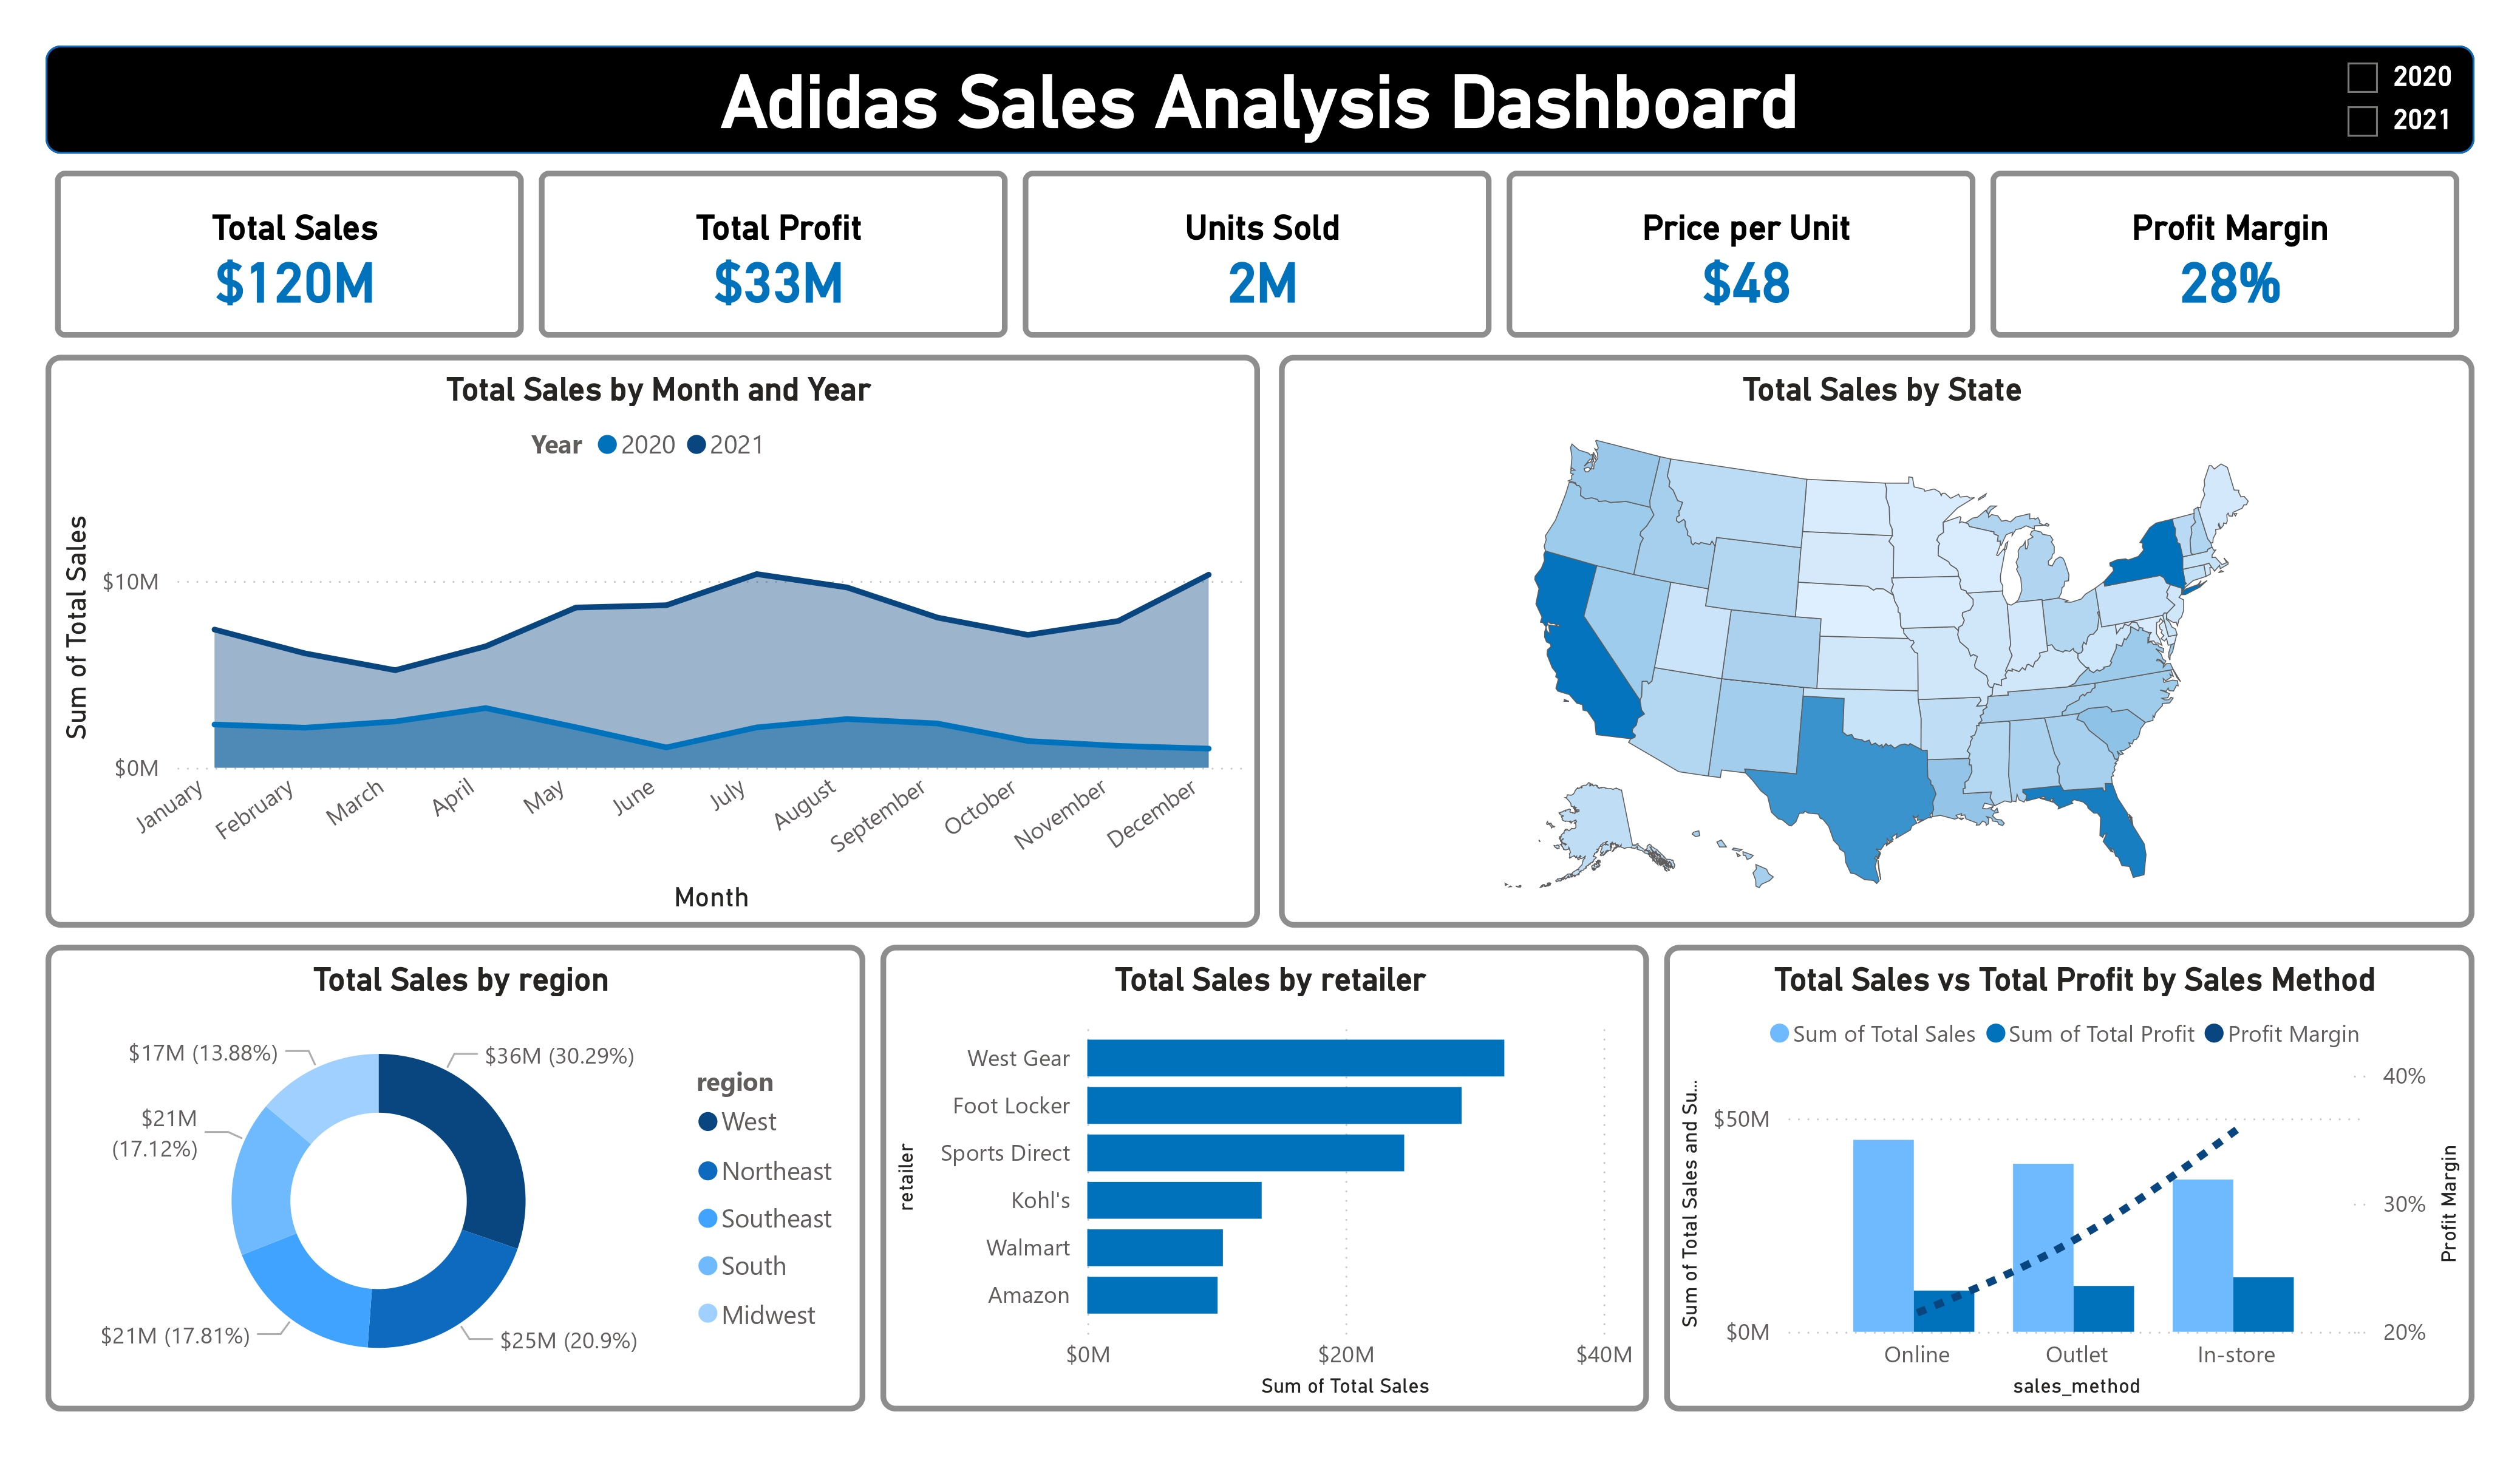

The dashboard page shown, as its layout file describes it:
{"tool":"powerbi","page":{"name":"Page 1","canvas":[1280,720],"ordinal":0},"visuals":[{"type":"shapeMap","title":"Total Sales by State","fields":{"Category":["Adidas US Sales.state"],"Value":["Sum(Adidas US Sales.total_sales)"]},"box":[650.1,163,629.6,301.8],"z":0},{"type":"textbox","box":[6.3,6.3,1273.4,39.4],"z":1000},{"type":"cardVisual","fields":{"Data":["Sum(Adidas US Sales.Total Sales)","Sum(Adidas US Sales.Operating Profit)","Sum(Adidas US Sales.Units Sold)","Adidas US Sales.Price per Unit","Adidas US Sales.Profit Margin"]},"box":[0,57,1279,106],"z":2000},{"type":"areaChart","title":"Total Sales by Month and Year","fields":{"Category":["Adidas US Sales.invoice_date.Variation.Date Hierarchy.Month"],"Y":["Sum(Adidas US Sales.Total Sales)"],"Series":["Adidas US Sales.invoice_date.Variation.Date Hierarchy.Year"]},"box":[0,163,640.3,301.8],"z":3000},{"type":"donutChart","title":"Total Sales by region","fields":{"Category":["Adidas US Sales.region"],"Y":["Sum(Adidas US Sales.Total Sales)"]},"box":[0,473.7,431.6,246.3],"z":4000},{"type":"barChart","title":"Total Sales by retailer","fields":{"Category":["Adidas US Sales.retailer"],"Y":["Sum(Adidas US Sales.Total Sales)"]},"box":[439.7,473.7,405.7,246.3],"z":5000},{"type":"lineClusteredColumnComboChart","title":"Total Sales vs  Total Profit by Sales Method","fields":{"Category":["Adidas US Sales.sales_method"],"Y":["Sum(Adidas US Sales.Total Sales)","Sum(Adidas US Sales.Total Profit)"],"Y2":["Adidas US Sales.Profit Margin"]},"box":[853.4,473.7,426.3,246.3],"z":6000},{"type":"shape","box":[0,0,1279.7,57.3],"z":7000},{"type":"slicer","fields":{"Values":["Adidas US Sales.invoice_date.Variation.Date Hierarchy.Year"]},"box":[1200,0,80,63],"z":7001}]}

Visuals, with their boxes in screenshot pixels (x1, y1, x2, y2):
"Total Sales by State" shapeMap: (1279,355,2474,928)
textbox: (58,58,2474,132)
cardVisual - Sum(Adidas US Sales.Total Sales) x Sum(Adidas US Sales.Operating Profit): (46,154,2473,355)
"Total Sales by Month and Year" areaChart: (46,355,1261,928)
"Total Sales by region" donutChart: (46,944,865,1411)
"Total Sales by retailer" barChart: (880,944,1650,1411)
"Total Sales vs  Total Profit by Sales Method" lineClusteredColumnComboChart: (1665,944,2474,1411)
shape: (46,46,2474,154)
slicer - Adidas US Sales.invoice_date.Variation.Date Hierarchy.Year: (2323,46,2474,165)
